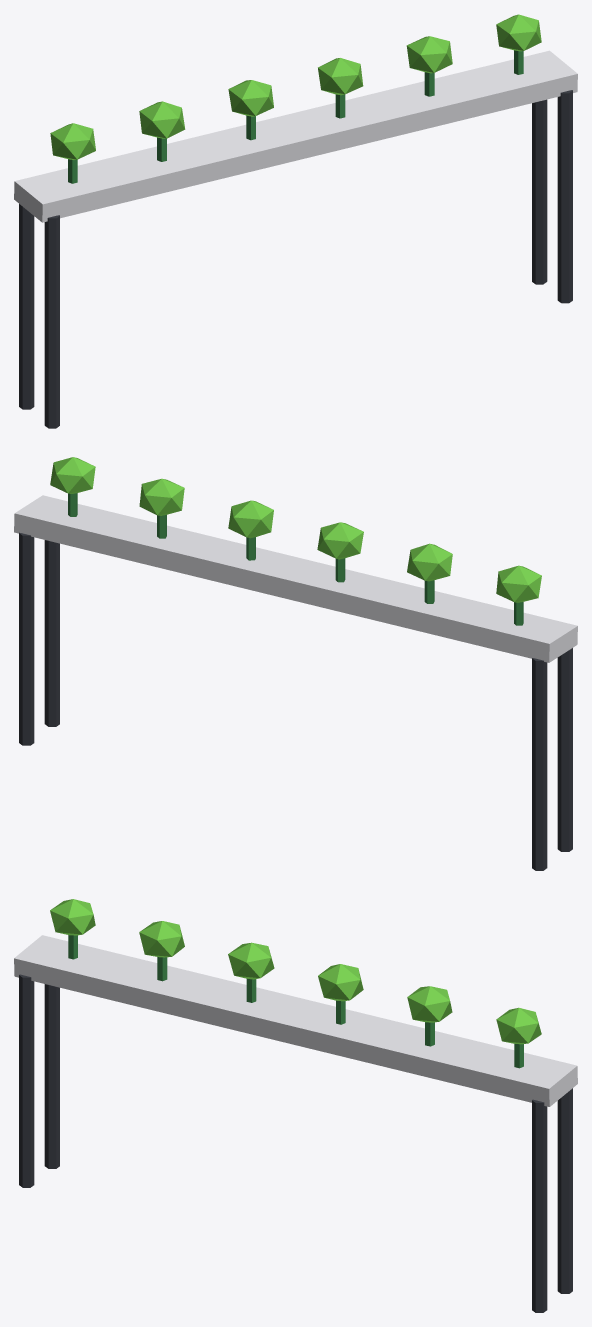
The model's file is hydro_nft_channel.glb.
The picture shows the model from 3 angles, top to bottom: view 1: azimuth 30°, elevation 25°; view 2: azimuth 150°, elevation 25°; view 3: azimuth 330°, elevation 25°; orthographic projection.
Parts seen in each view (by area): view 1: nft_channel; view 2: nft_channel; view 3: nft_channel.
Boxes of the visible parts, <box> form: nft_channel: <box>14,14,577,428</box>; nft_channel: <box>14,457,577,870</box>; nft_channel: <box>14,899,577,1312</box>.
Bounding box in the file's own units: 2.4 × 1.22 × 0.26.
